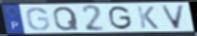2: (81, 3, 107, 34)
G: (108, 5, 134, 31), (25, 7, 52, 32)
K: (136, 5, 161, 30)
Q: (52, 6, 80, 32)
V: (159, 5, 187, 30)
